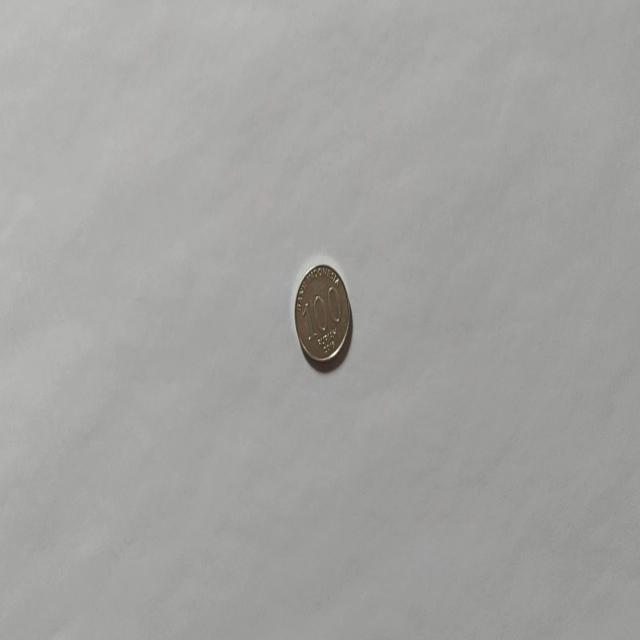seratus rupiah: (294, 262, 351, 366)
